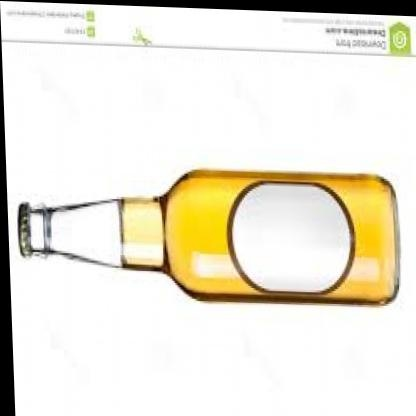trash: (18, 170, 398, 303)
